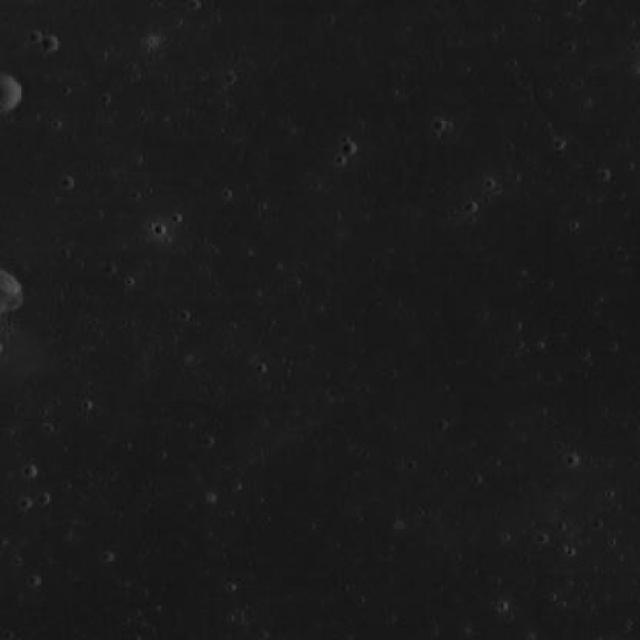crater: (0, 76, 23, 112), (44, 34, 61, 51)
